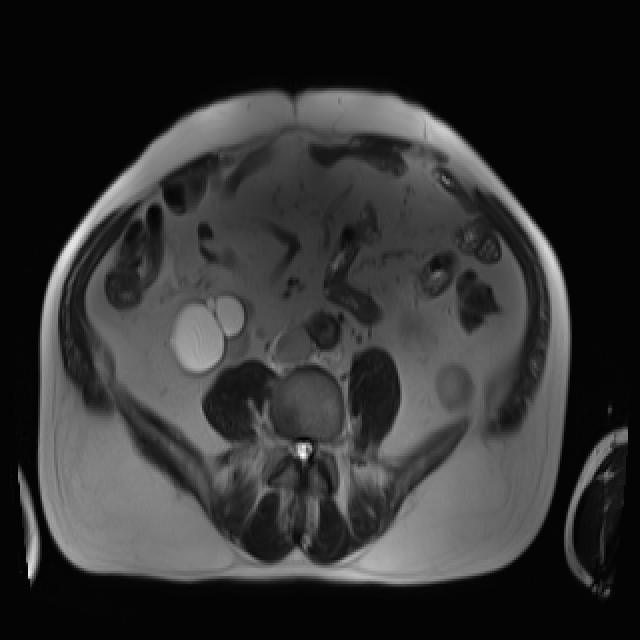sag: (171, 293, 255, 377)
sol: (437, 362, 474, 411)
